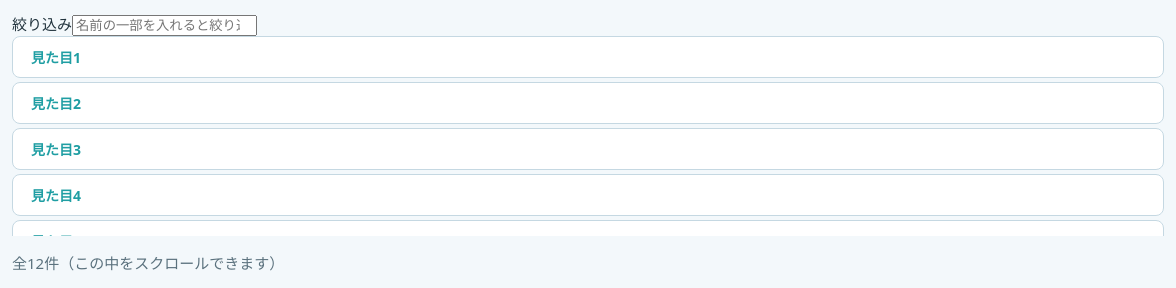
PickerList › 名前の一部で絞り込める（見えている数も出す）
In the search field labelled "絞り込み": (164, 26) top-left (72, 15), bottom-right (257, 36), type "目1"
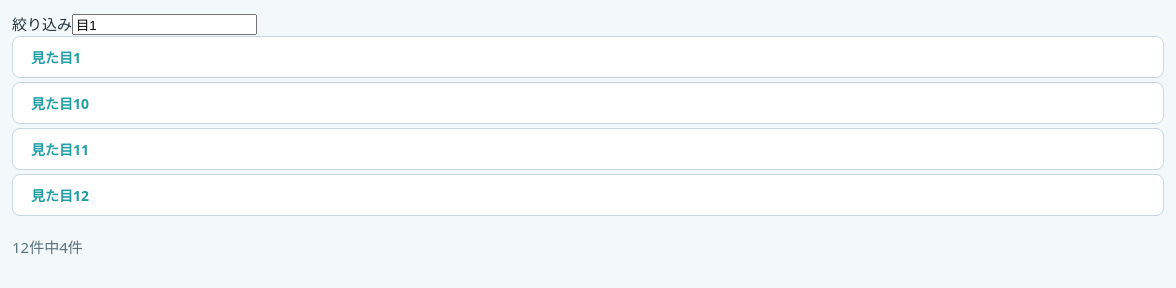
Now the number of buttons "見た目1" is 4, box top-left (12, 36), bottom-right (1164, 78); top-left (12, 82), bottom-right (1164, 124); top-left (12, 128), bottom-right (1164, 170); top-left (12, 174), bottom-right (1164, 216)
Now the text "12件中4件" is shown, box top-left (12, 237), bottom-right (83, 257)
